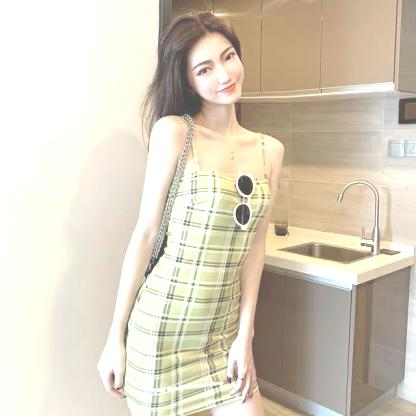jacket: (113, 119, 283, 416)
jean: (97, 10, 288, 416)
